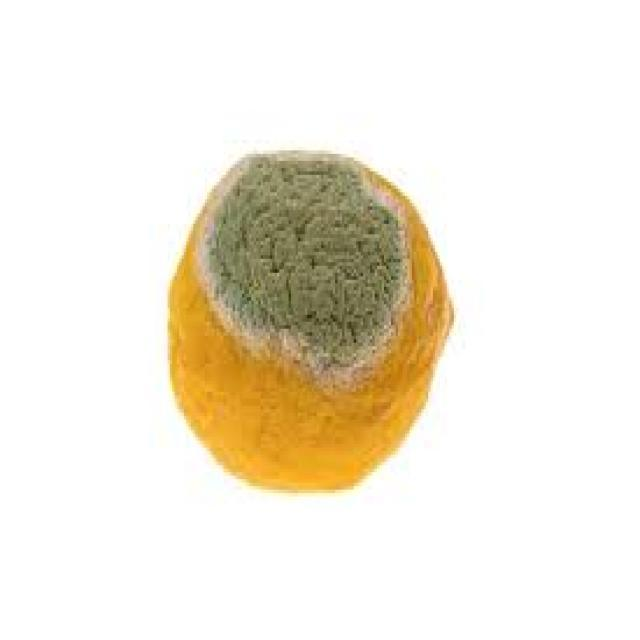Rotten: (165, 144, 455, 493)
